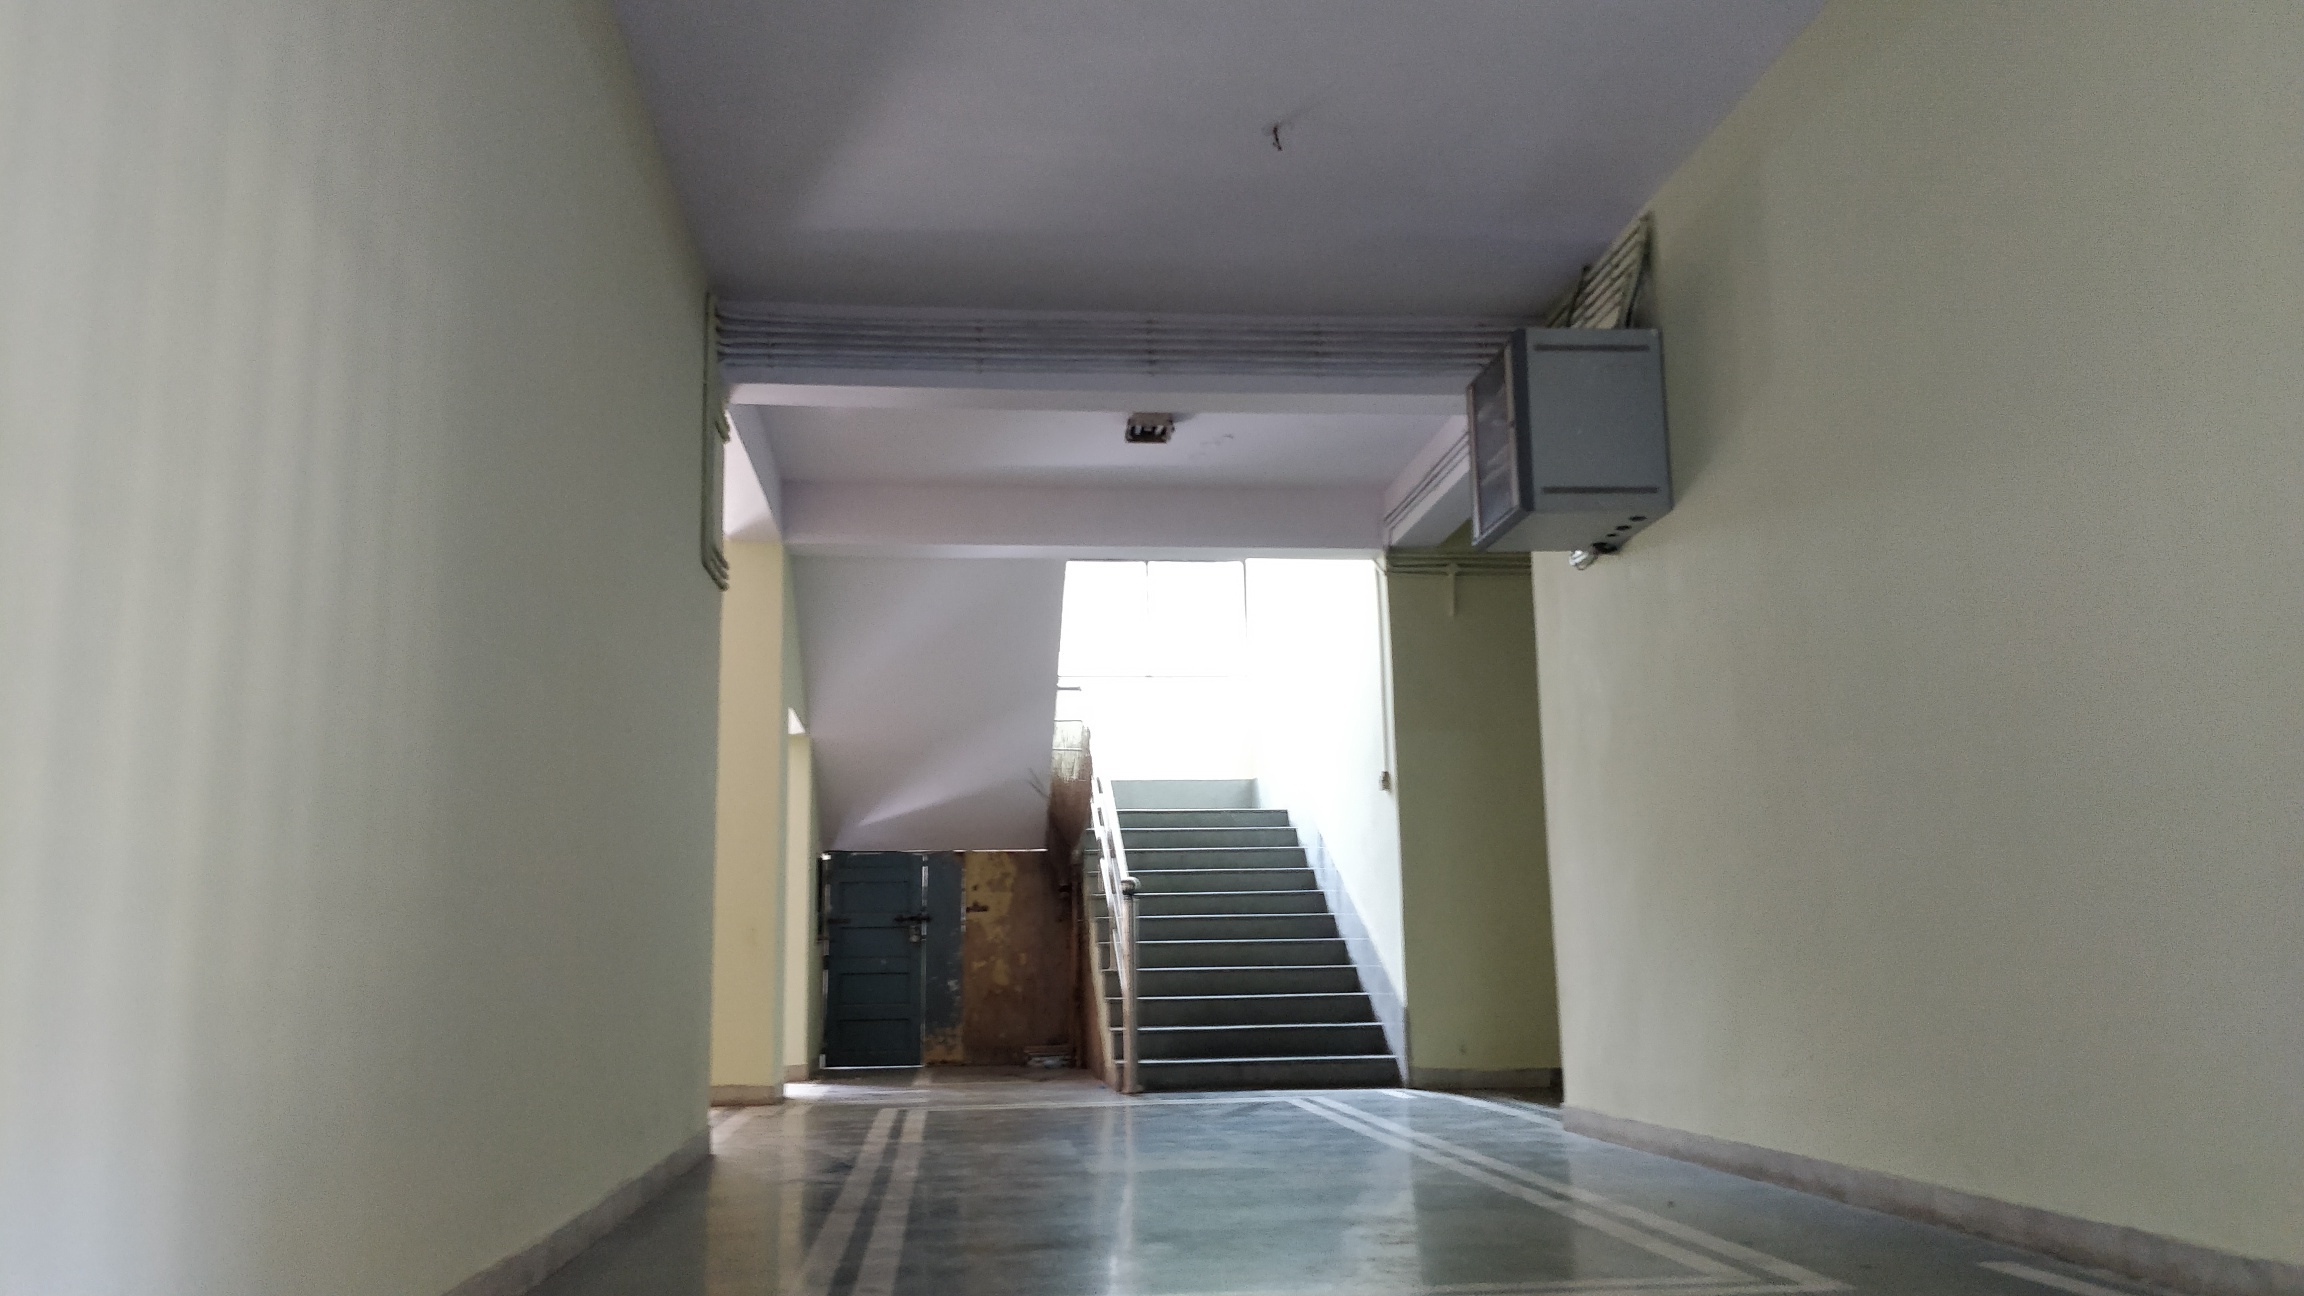stairs_up: (1097, 807, 1400, 1081)
